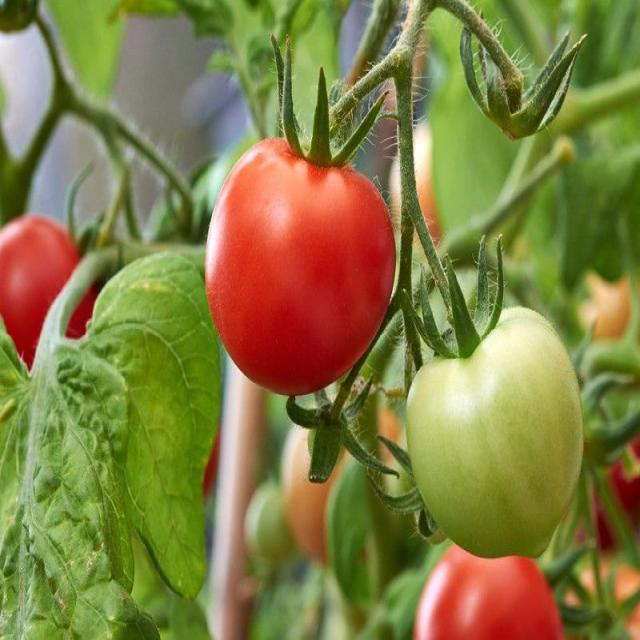level 3: (407, 293, 585, 561)
level 6: (206, 137, 397, 398), (0, 216, 92, 378), (420, 548, 569, 640)
